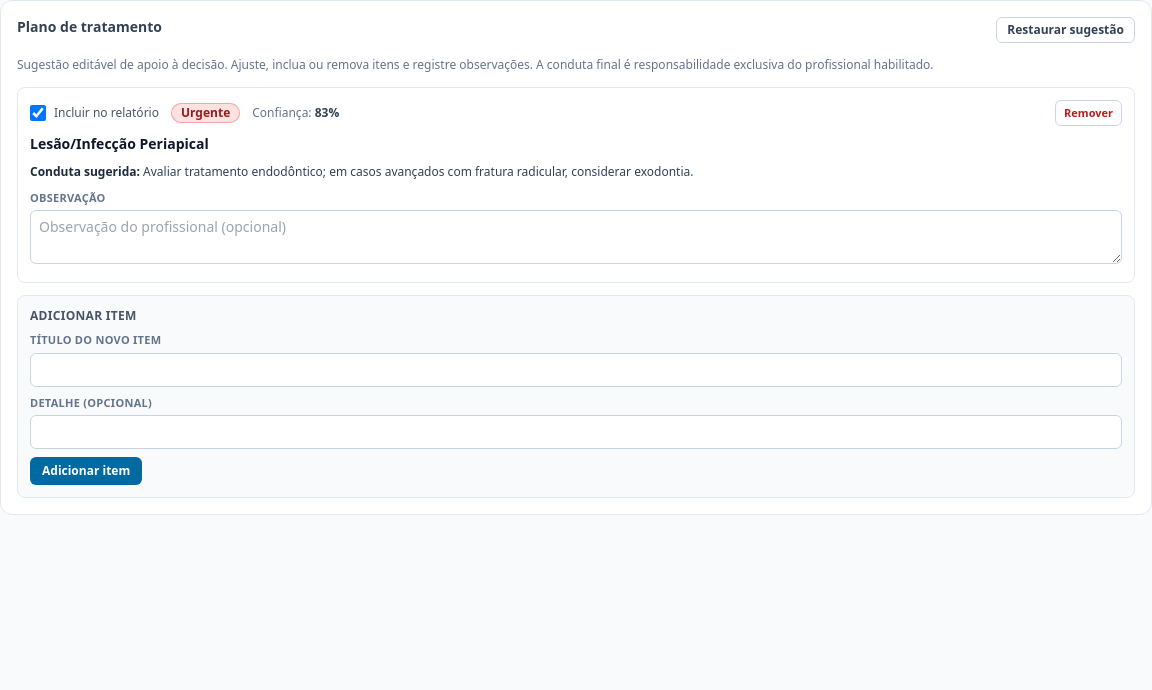
Test case: TreatmentPlan › exige título e adiciona item custom
The width and height of the screenshot is (1152, 690).
Step 1. Click the button "Adicionar item" → (86, 471), box [30, 457, 142, 485]
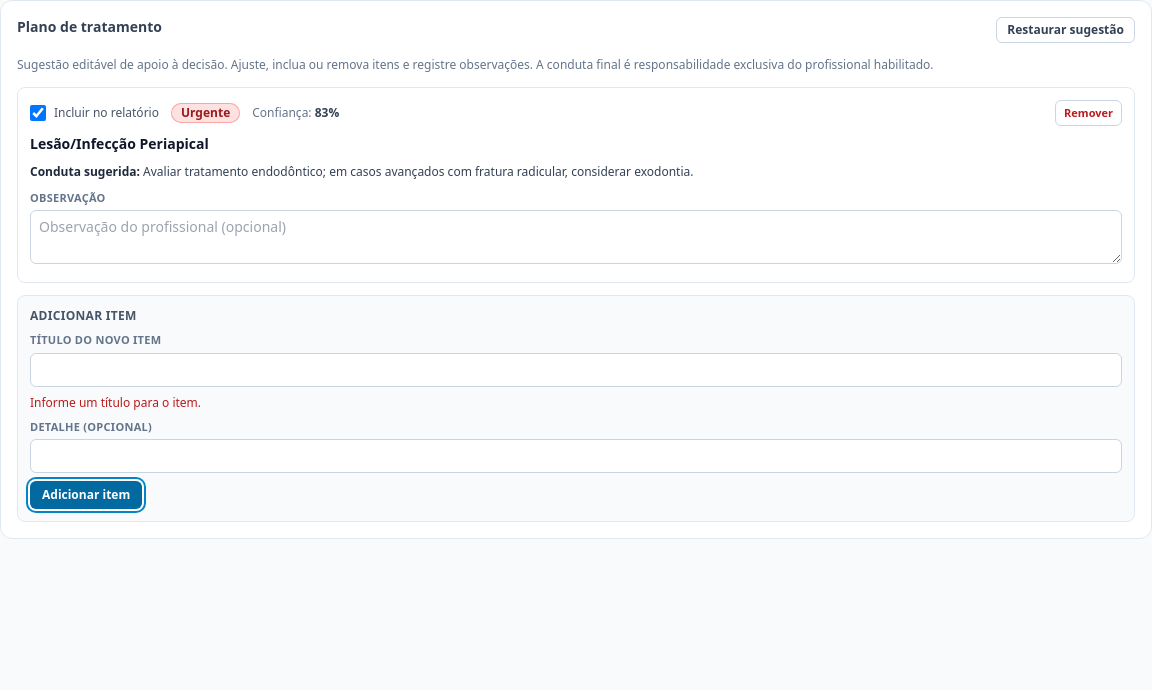
Expected: the text "item próprio" is not shown
Result: the message reads "Informe um título para o item." at [30, 394, 201, 410]
Step 2. Type "Implante em 36" into the field labelled "Título do novo item" → (576, 370), box [30, 352, 1122, 386]
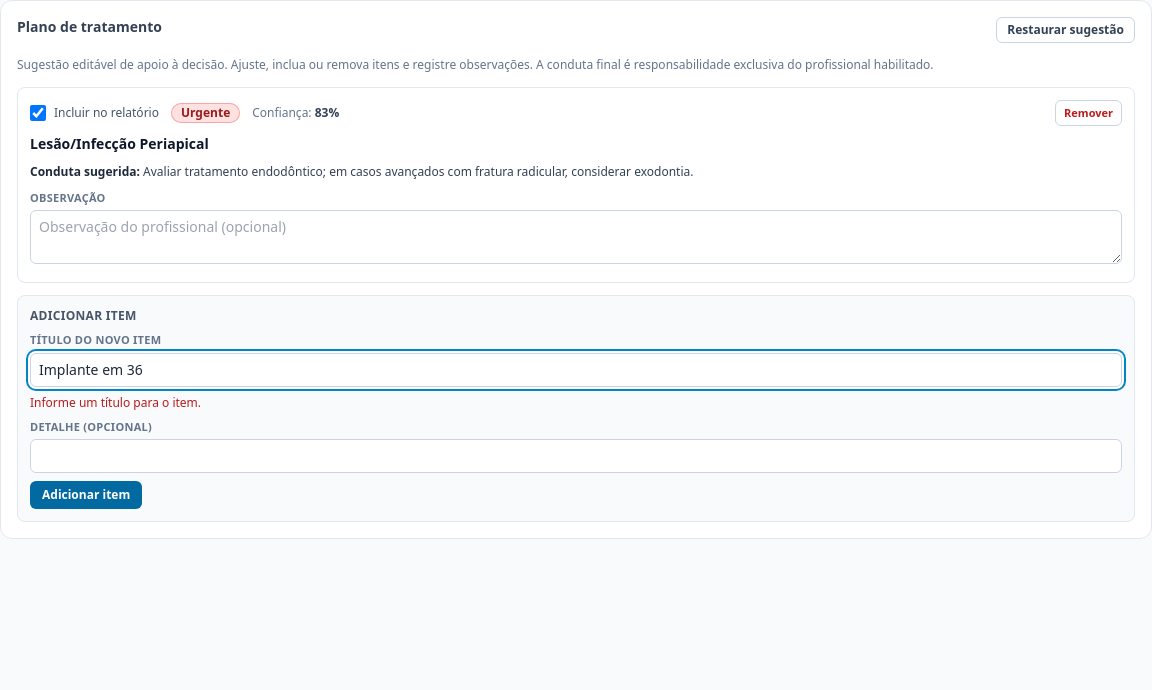
Step 3. Type "Considerar avaliação" into the field labelled "Detalhe (opcional)" → (576, 456), box [30, 439, 1122, 473]
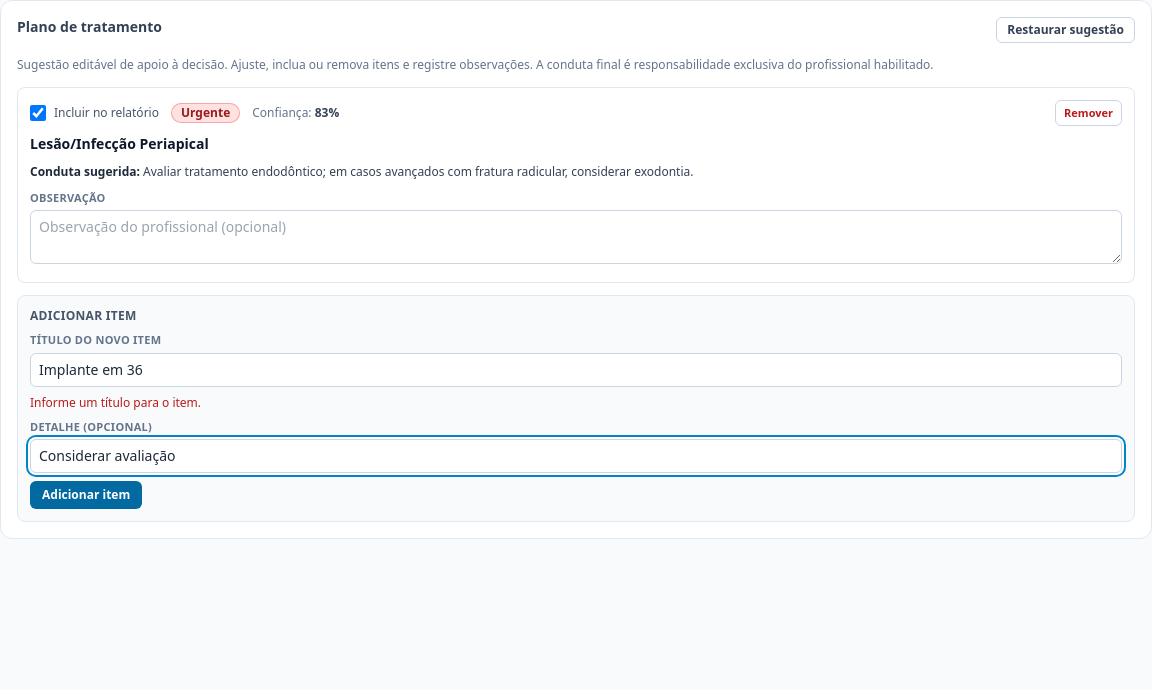
Step 4. Click the button "Adicionar item" → (86, 495), box [30, 481, 142, 509]
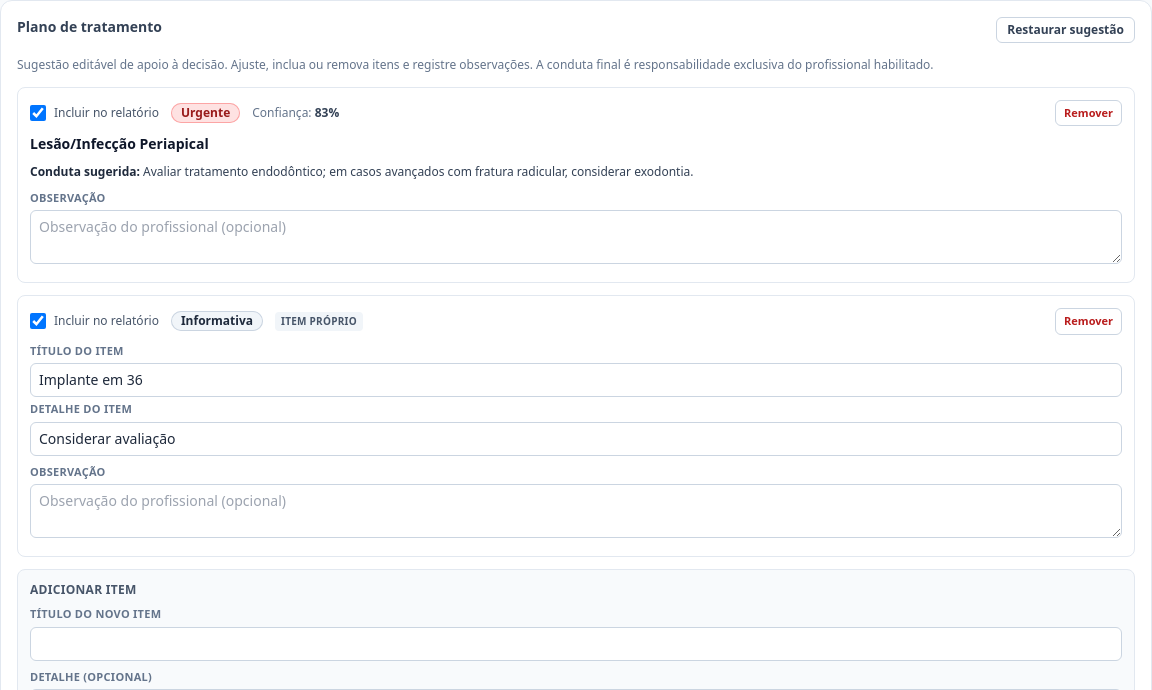
Result: the message "Informe um título para o item." is gone
Result: the field showing "Implante em 36" is shown at [30, 363, 1122, 397]
Result: the field showing "Considerar avaliação" is shown at [30, 422, 1122, 456]
